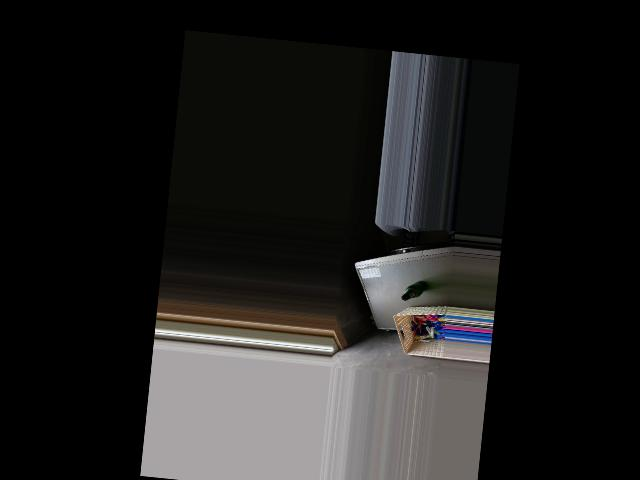beer: (401, 279, 427, 301)
